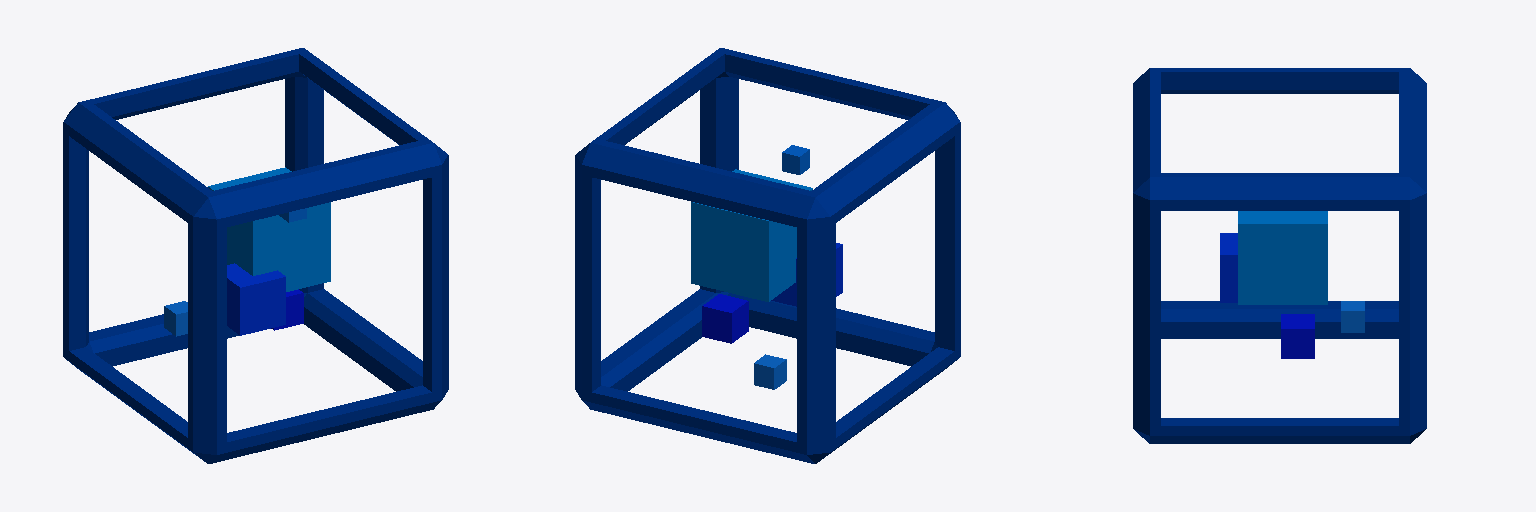
The model's file is GD3ItemBox.obj.
3 views of the same model, side by side, from view 1: azimuth 30°, elevation 25°; view 2: azimuth 150°, elevation 25°; view 3: azimuth 270°, elevation 25° (orthographic).
Parts seen in each view (by area): view 1: Cube, Cube.001, Cube.002_Cube.005, Cube.005_Cube.008, Cube.003_Cube.006; view 2: Cube, Cube.001, Cube.003_Cube.006, Cube.005_Cube.008, Cube.002_Cube.005, Cube.004_Cube.007; view 3: Cube, Cube.001, Cube.003_Cube.006, Cube.002_Cube.005, Cube.005_Cube.008.
Part boxes in pixels (x1,y1,x2,y2): Cube: (63, 48, 448, 463); Cube.001: (208, 167, 330, 291); Cube.002_Cube.005: (227, 263, 285, 335); Cube.005_Cube.008: (164, 301, 187, 336); Cube.003_Cube.006: (271, 289, 303, 330); Cube: (575, 48, 960, 463); Cube.001: (691, 169, 812, 301); Cube.003_Cube.006: (702, 294, 748, 343); Cube.005_Cube.008: (754, 354, 786, 389); Cube.002_Cube.005: (771, 243, 842, 306); Cube.004_Cube.007: (782, 145, 809, 174); Cube: (1133, 68, 1426, 443); Cube.001: (1238, 211, 1327, 304); Cube.003_Cube.006: (1281, 314, 1314, 358); Cube.002_Cube.005: (1220, 233, 1237, 302); Cube.005_Cube.008: (1341, 301, 1364, 332).
Size of the model in its own units: 2 by 2 by 2.